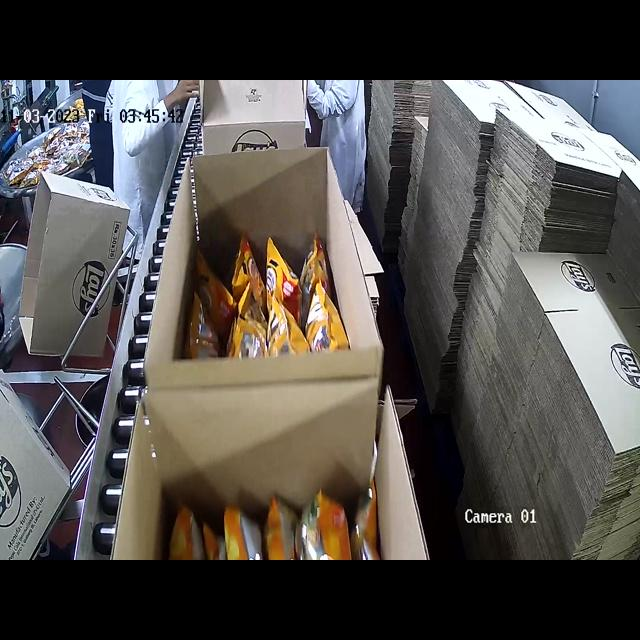cheese: (184, 237, 336, 370), (171, 472, 362, 560)
